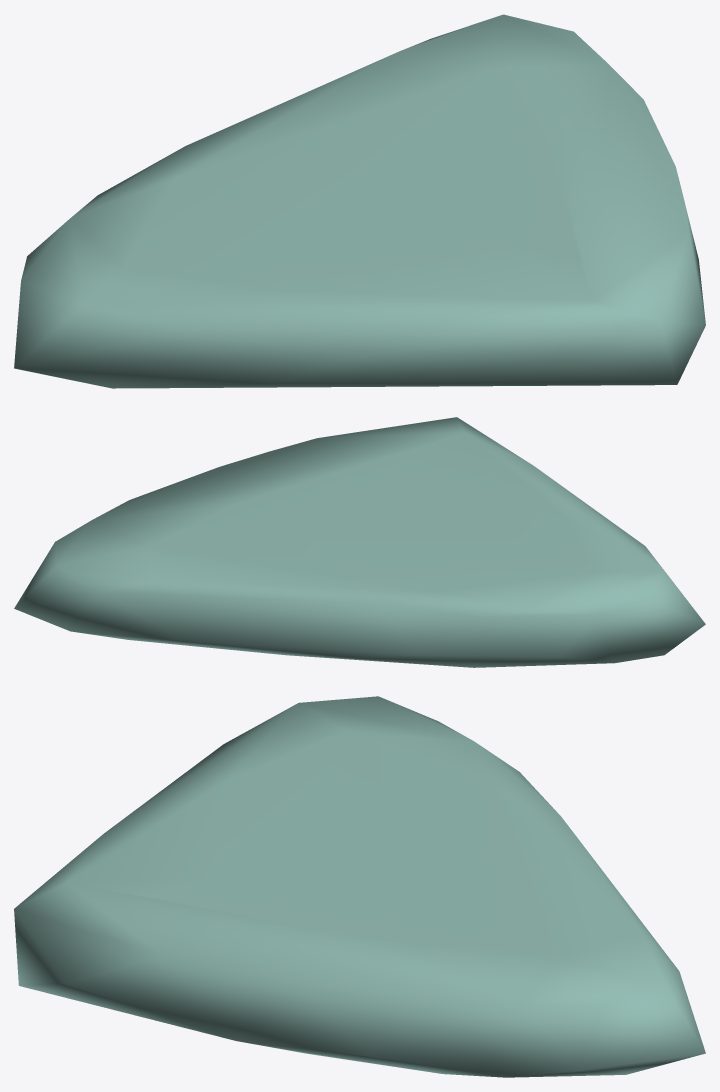
3 views of the same model, one above another, from view 1: azimuth 30°, elevation 25°; view 2: azimuth 150°, elevation 25°; view 3: azimuth 270°, elevation 25° (orthographic). The views are drawn at different scales.
Size of the model in its own units: 1.54 by 0.1684 by 1.32.
